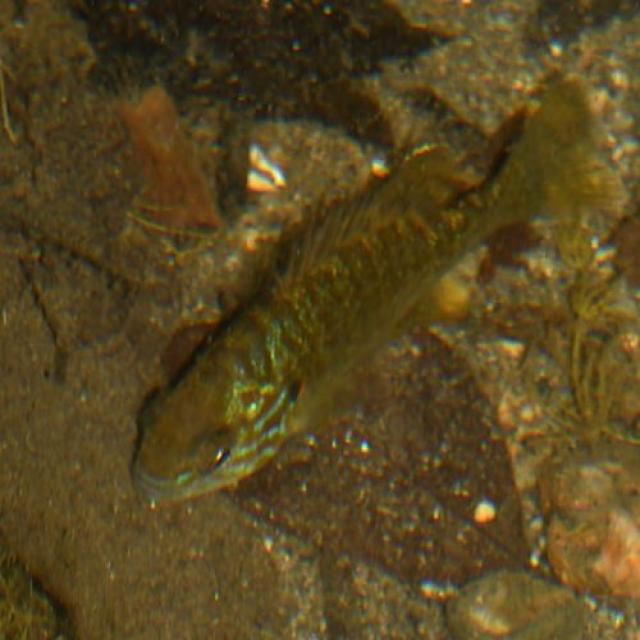Gunes Levregi: (130, 62, 616, 525)
